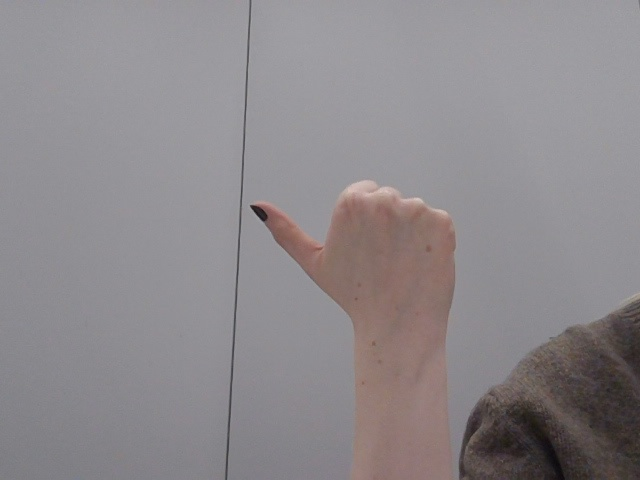right: (229, 154, 487, 357)
